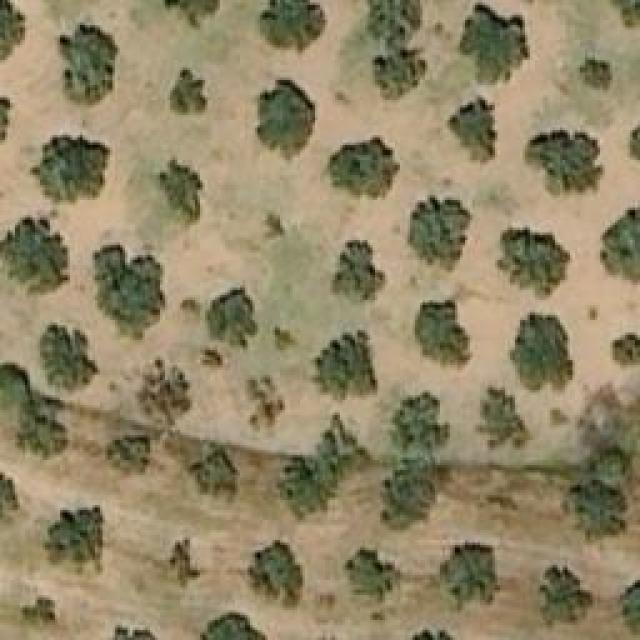Tree: (95, 245, 168, 340), (0, 362, 68, 460), (523, 130, 606, 200), (58, 15, 120, 108), (368, 0, 428, 95), (460, 3, 530, 83), (0, 218, 70, 298), (498, 225, 573, 298), (33, 135, 108, 203), (410, 192, 473, 270), (328, 138, 401, 203), (513, 312, 573, 390), (43, 505, 106, 575), (255, 78, 315, 151), (40, 325, 103, 393), (315, 330, 378, 398), (413, 300, 473, 370), (440, 542, 500, 610), (137, 357, 195, 425), (327, 237, 385, 305), (245, 540, 303, 608), (445, 97, 498, 165), (478, 388, 531, 453), (205, 285, 258, 348), (540, 565, 593, 628), (378, 465, 431, 528), (263, 0, 328, 50), (342, 548, 400, 603), (600, 205, 640, 283), (278, 455, 331, 513), (395, 395, 448, 453), (565, 483, 620, 538), (160, 157, 203, 225), (185, 448, 238, 503), (103, 430, 153, 483), (152, 538, 200, 588), (170, 68, 208, 118), (200, 612, 265, 640), (0, 0, 25, 72), (165, 0, 220, 28), (10, 598, 60, 628), (620, 577, 640, 640), (580, 52, 613, 90), (0, 468, 18, 531), (105, 625, 178, 640), (610, 0, 640, 32), (610, 335, 640, 365), (273, 325, 298, 353), (200, 348, 223, 368)
